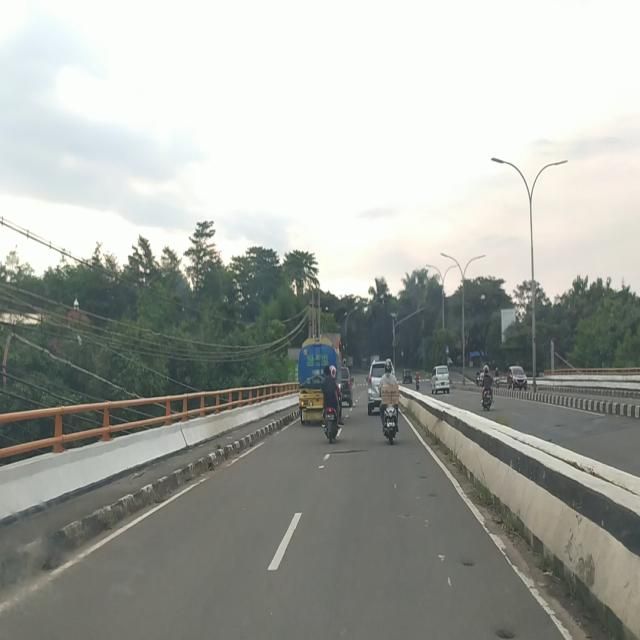Sewer Cover: (324, 447, 370, 456)
